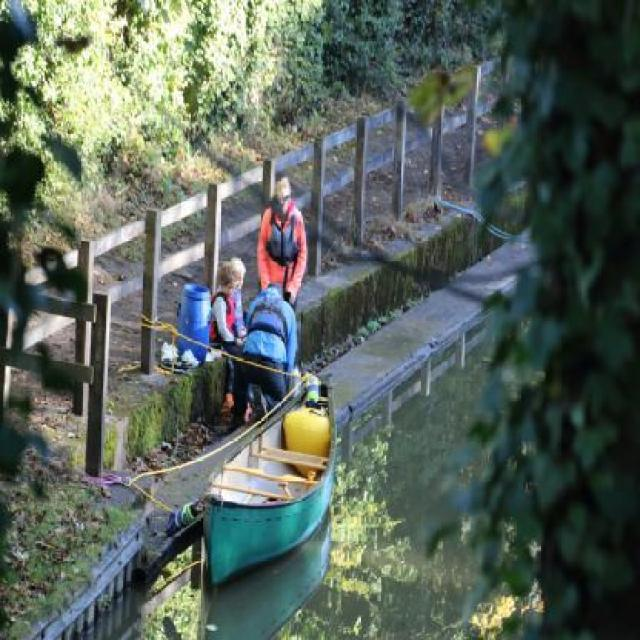Person: (228, 279, 298, 432), (256, 187, 299, 308), (204, 256, 241, 366), (226, 256, 249, 356)
